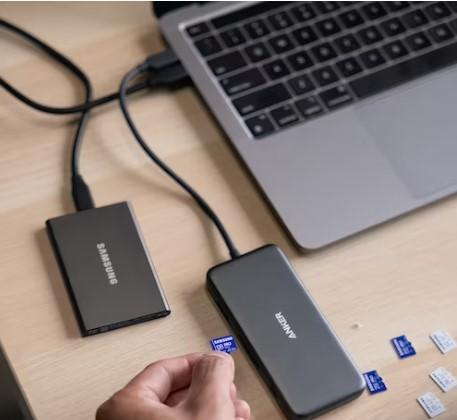HDD: (205, 244, 368, 420), (40, 201, 171, 339)
